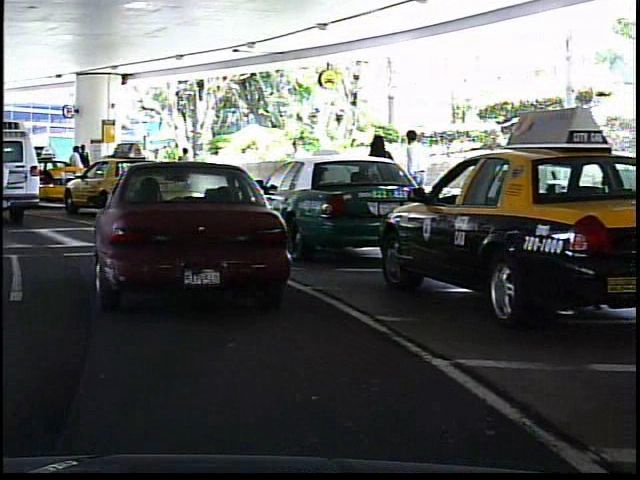person: (399, 123, 436, 227), (361, 129, 395, 227), (280, 133, 308, 204), (171, 141, 196, 192), (67, 145, 84, 198), (77, 142, 93, 194)
